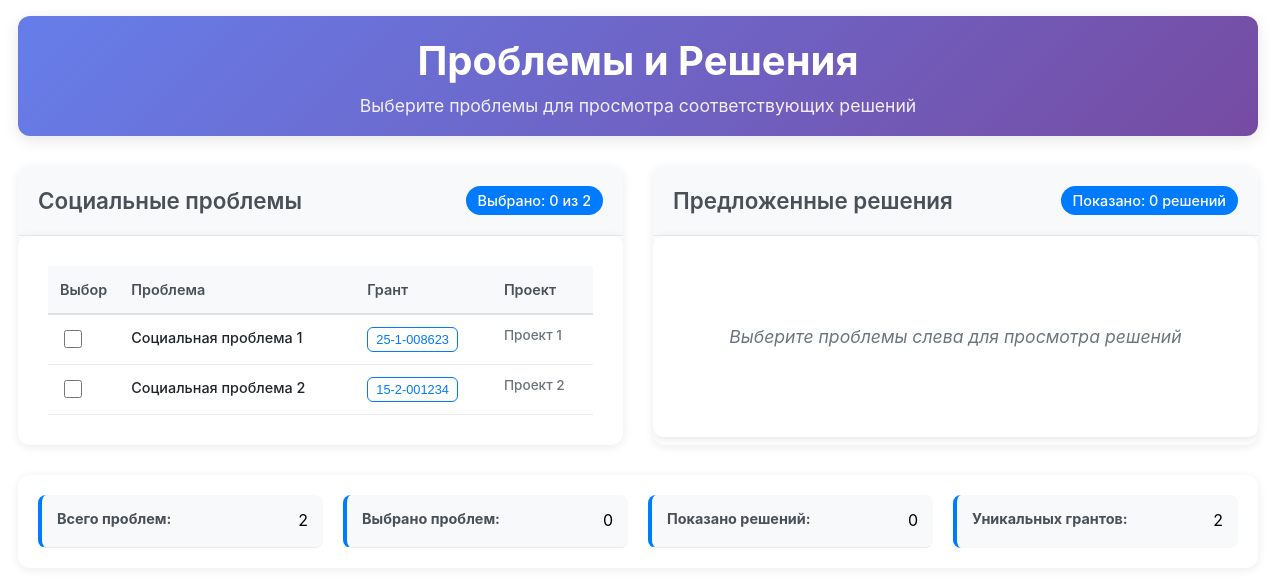
it: ProblemsSolutionsPage › загружает решения при выборе проблем
Click the checkbox next to "Социальная проблема 1": [73, 339] box x1=64 y1=330 x2=82 y2=348
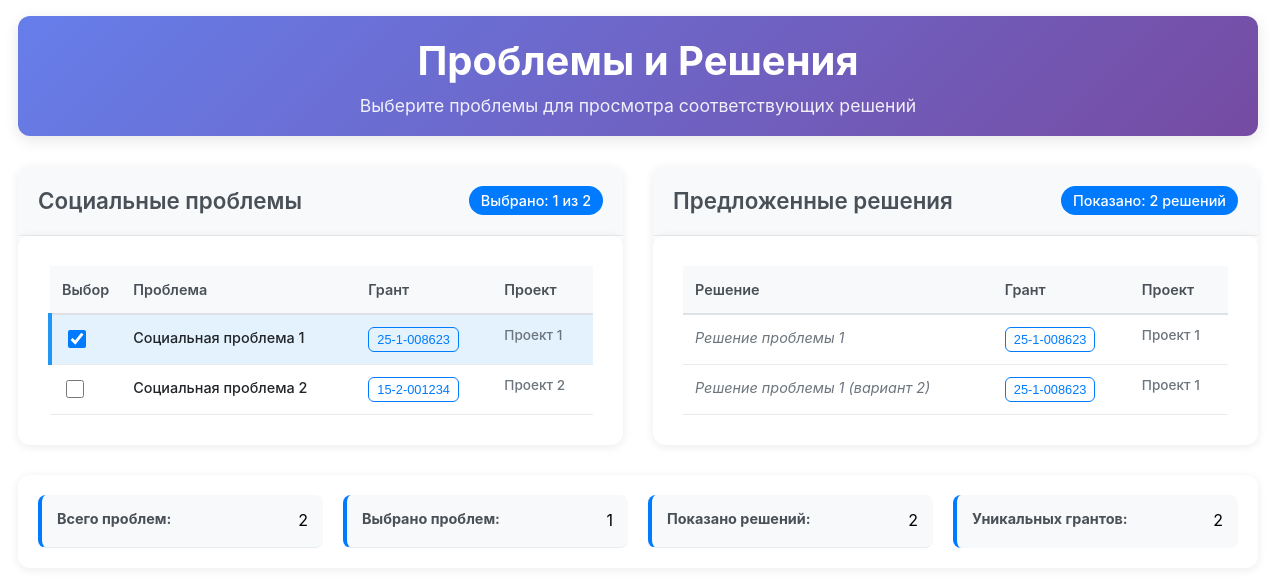
expect the text "Решение проблемы 1" is shown: met, box x1=683 y1=314 x2=993 y2=364
expect the text "Решение проблемы 1 (вариант 2)" is shown: met, box x1=683 y1=364 x2=993 y2=414
